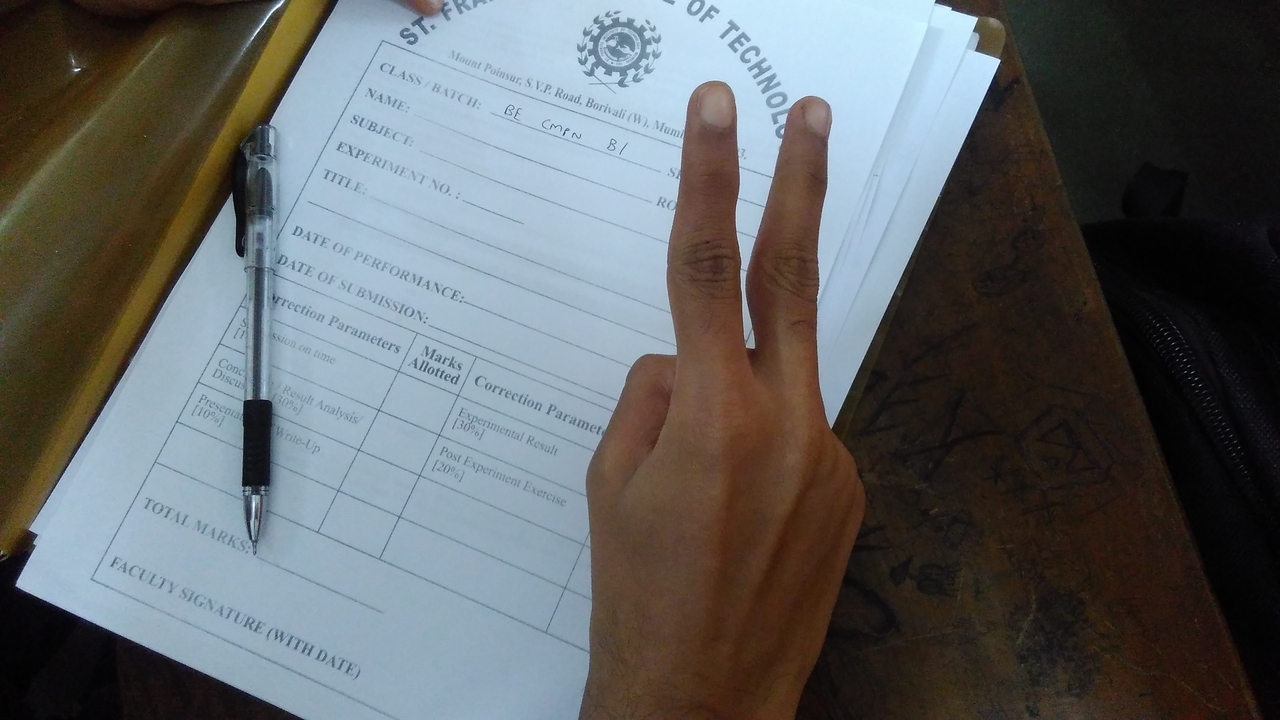fingertip: (682, 76, 744, 132), (778, 88, 842, 140)
